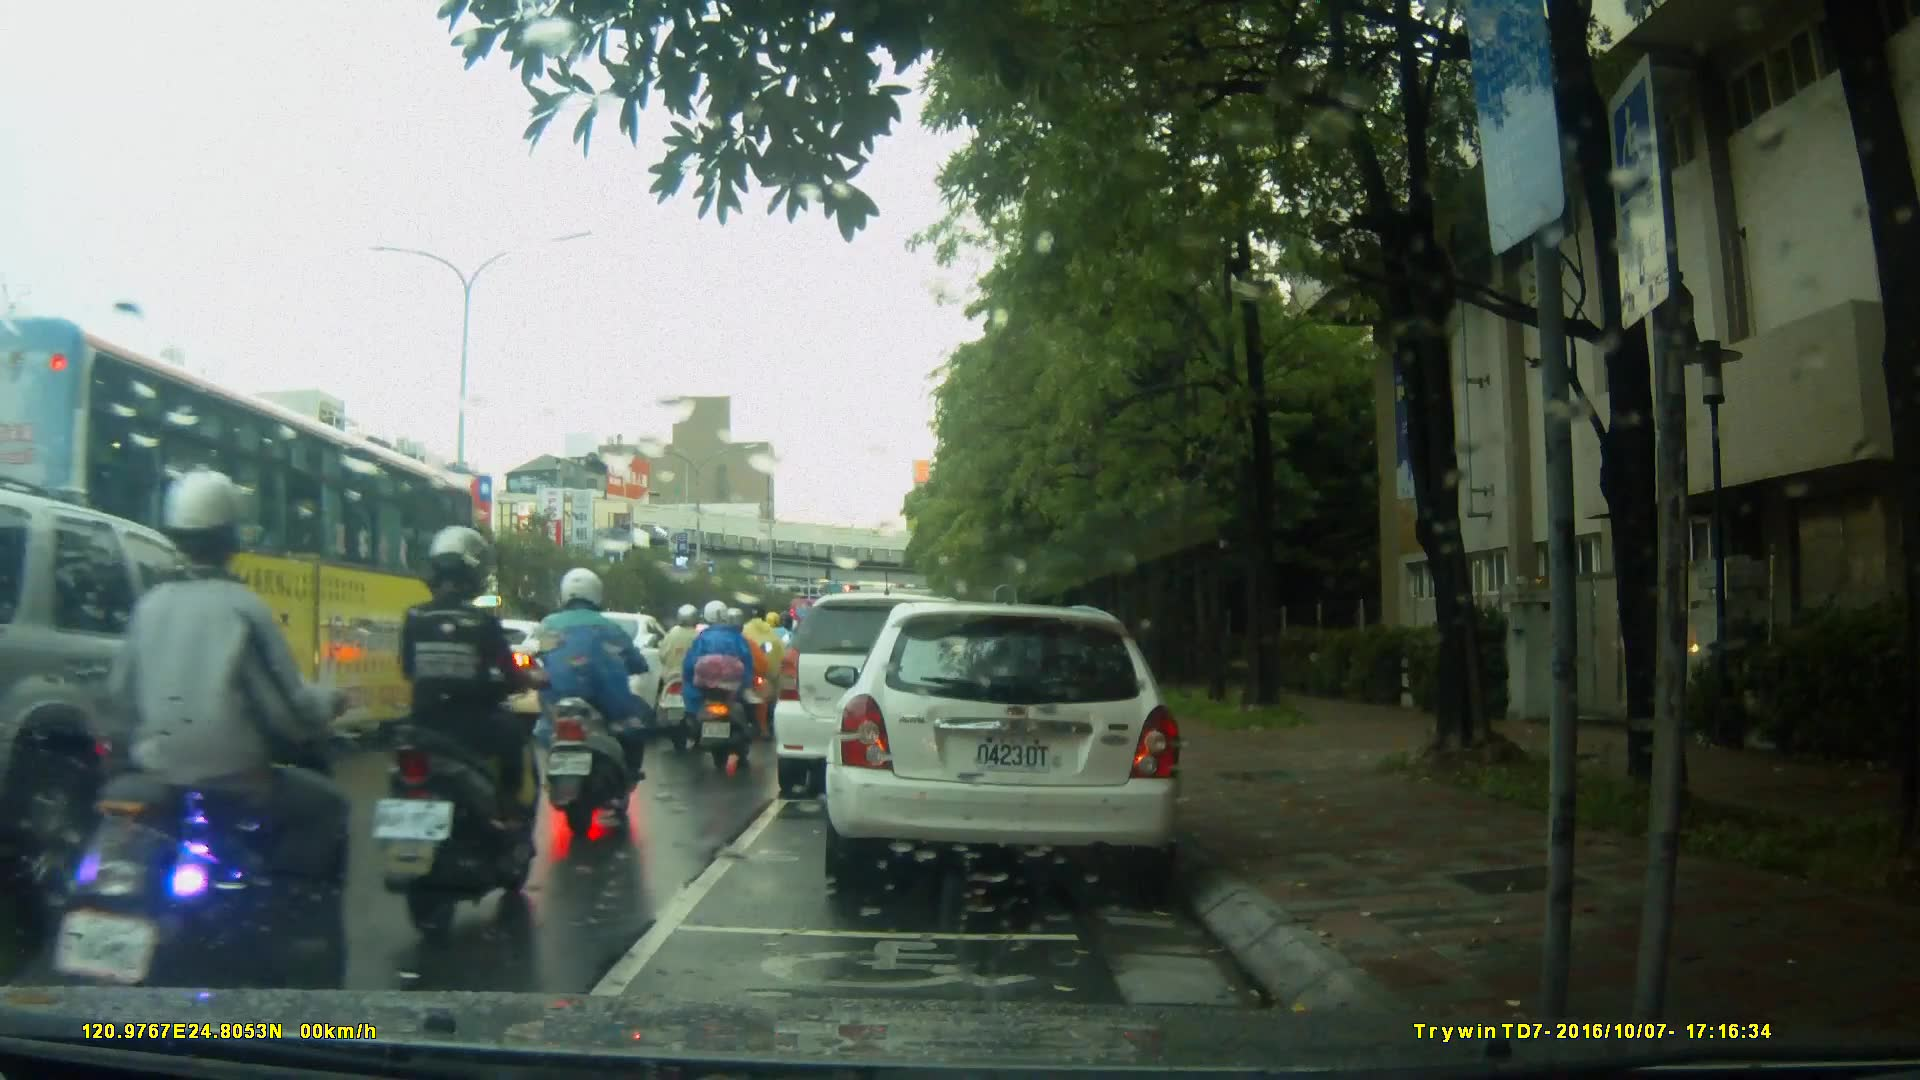rider: (46, 465, 340, 1047), (370, 523, 548, 935), (543, 562, 657, 840), (682, 601, 776, 770), (652, 600, 717, 754), (729, 594, 787, 729)
vehicle: (1, 316, 491, 781), (1, 468, 342, 942), (835, 594, 1194, 898), (776, 590, 1026, 784), (495, 600, 692, 737)
